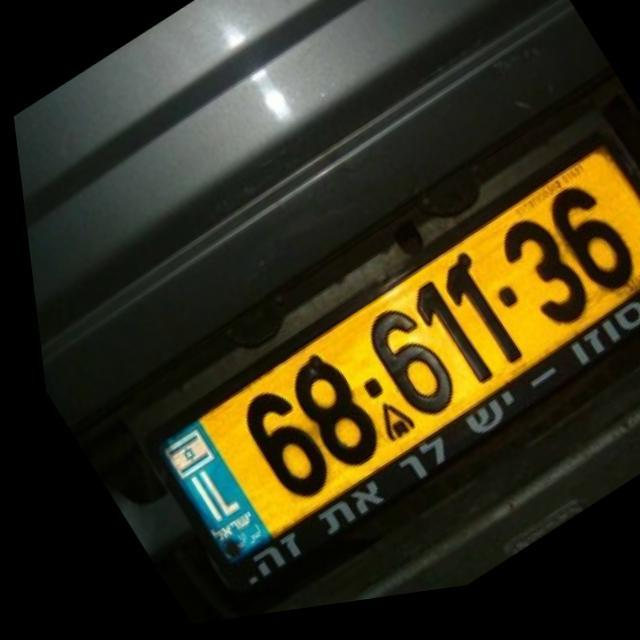license_plate: (175, 170, 640, 534)
